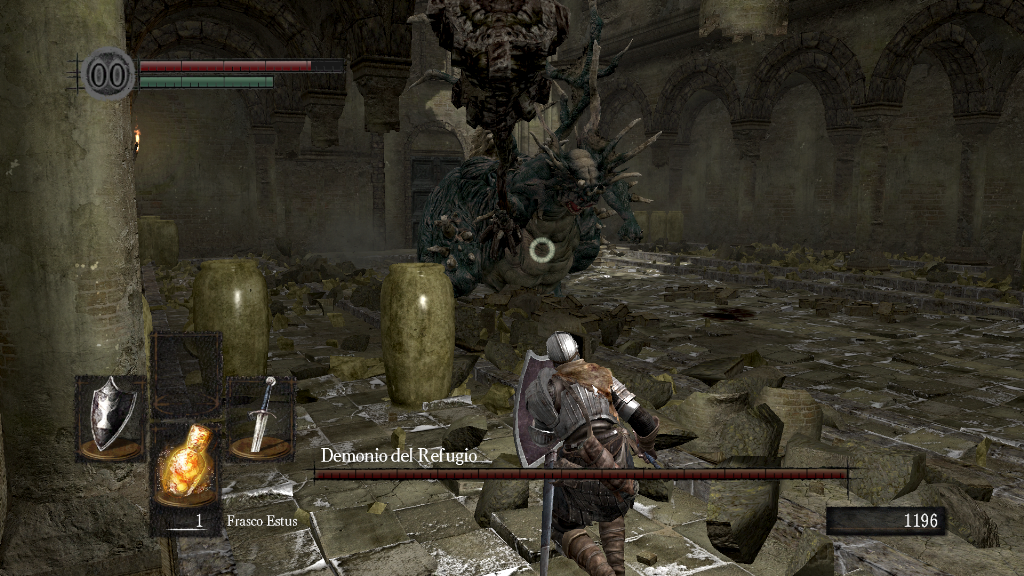asylumDemon: (410, 5, 663, 302)
bossHP: (314, 469, 847, 479)
health: (138, 58, 343, 71)
humanity: (80, 45, 136, 102)
player: (513, 330, 663, 576)
souls: (825, 506, 945, 536)
stamina: (138, 74, 274, 88)
